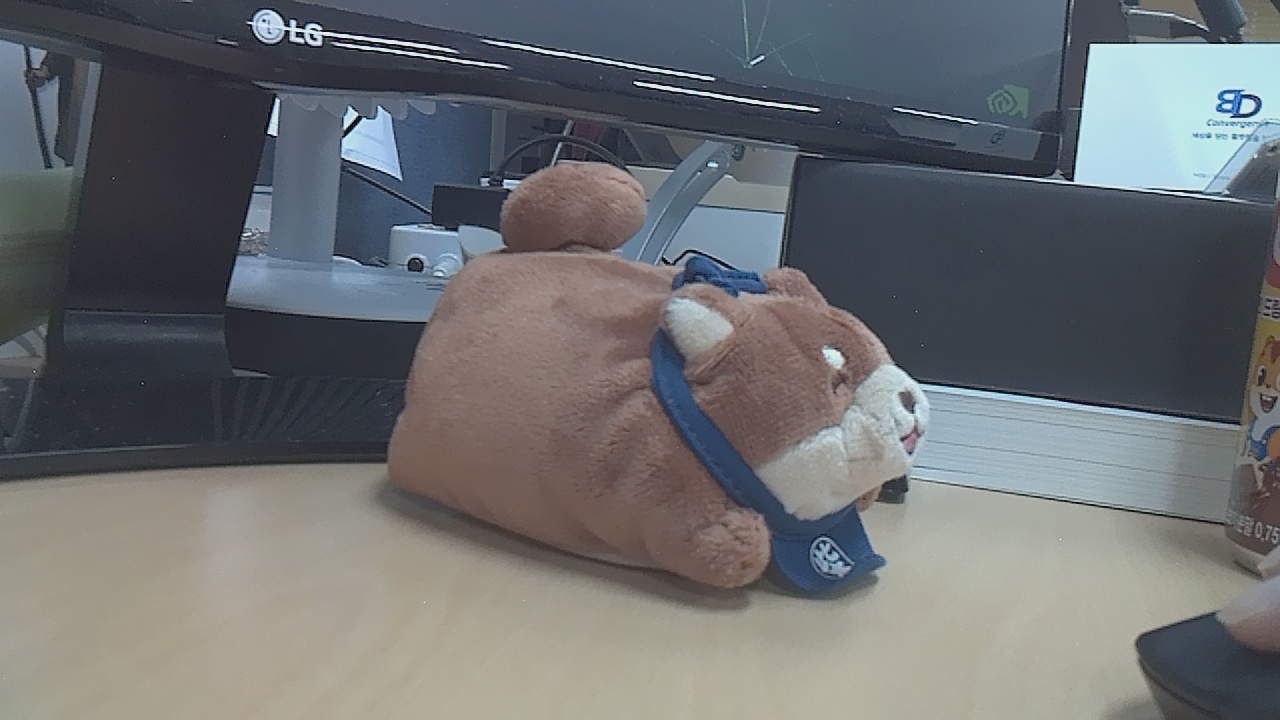cuteDog: (328, 196, 980, 616)
